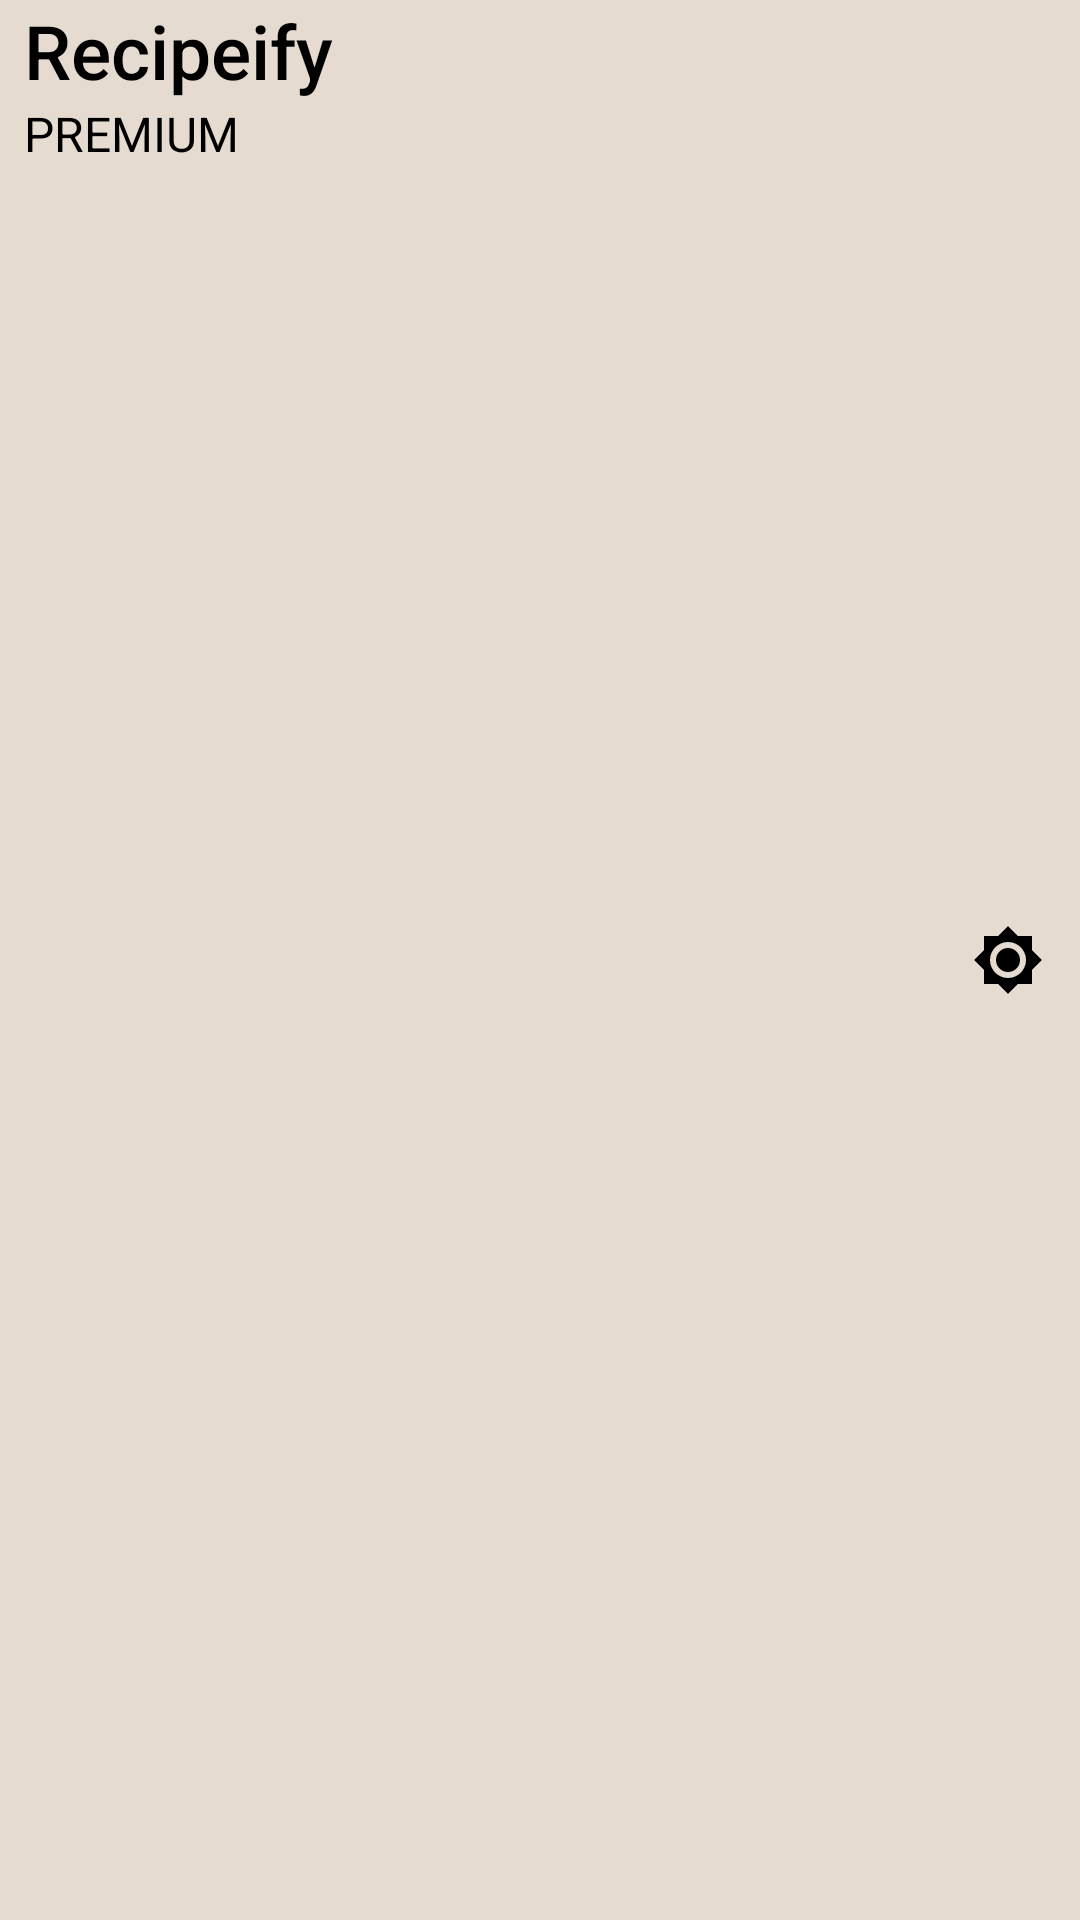

Icons on this 1080×1920 Android screen, each with the point to tap as (x,y):
mode: (1008,960)
